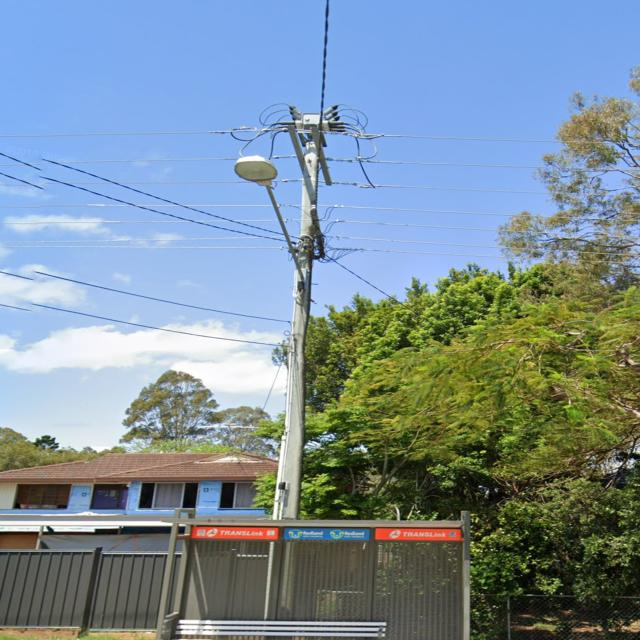HV-switch: (271, 103, 353, 135)
HV-transmission: (286, 121, 371, 189)
crossarm: (286, 124, 332, 186)
streetlight: (232, 155, 307, 295)
timber-pole: (272, 133, 323, 522)
